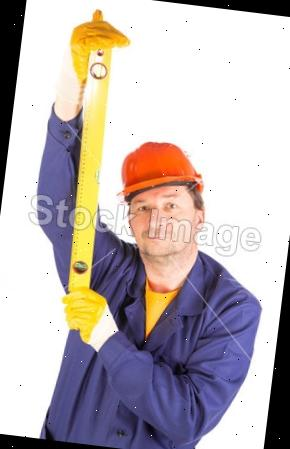helmet: (115, 134, 207, 212)
wear: (58, 249, 248, 449)
